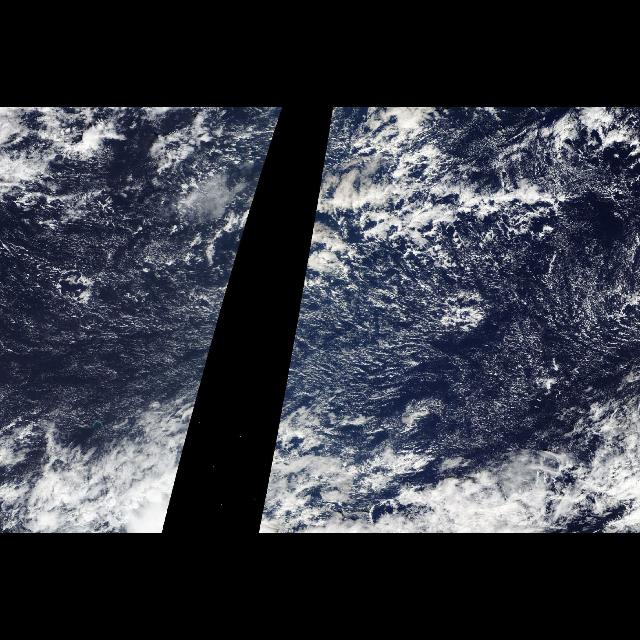Gravel: (345, 108, 639, 372)
Sugar: (270, 259, 640, 451), (1, 208, 230, 452)
